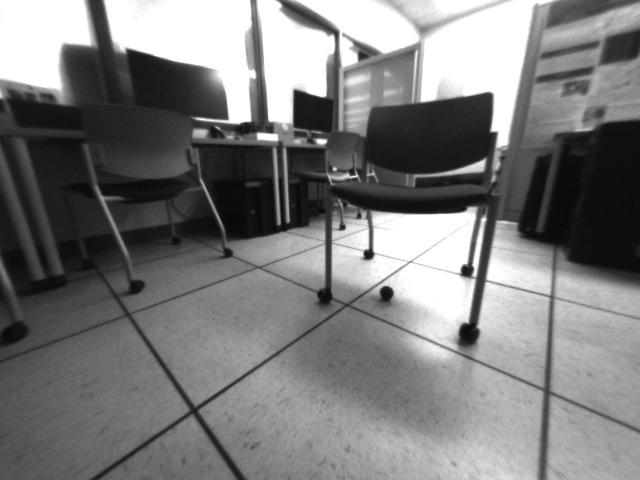dogtoy: (373, 279, 403, 307)
